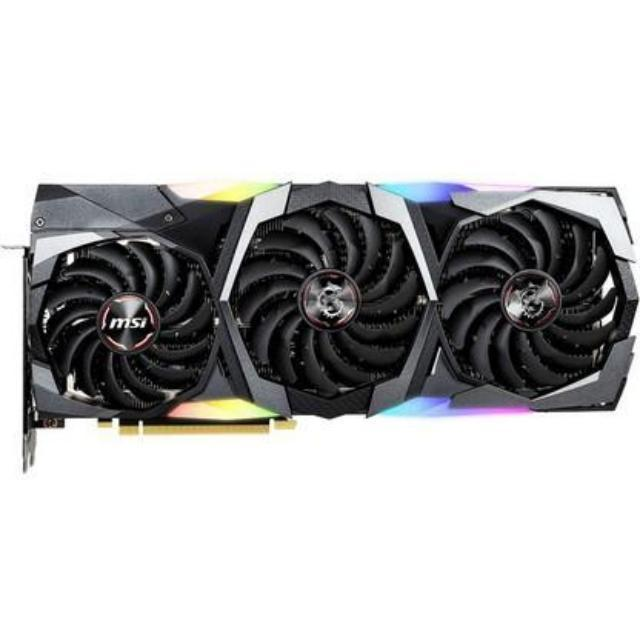GPU: (18, 172, 640, 454)
